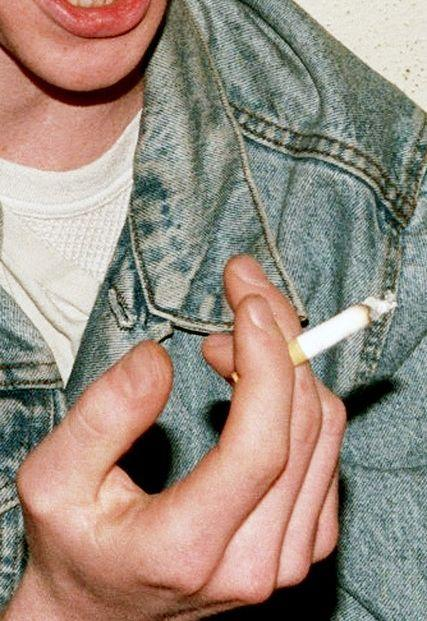cigarette: (289, 291, 398, 368)
